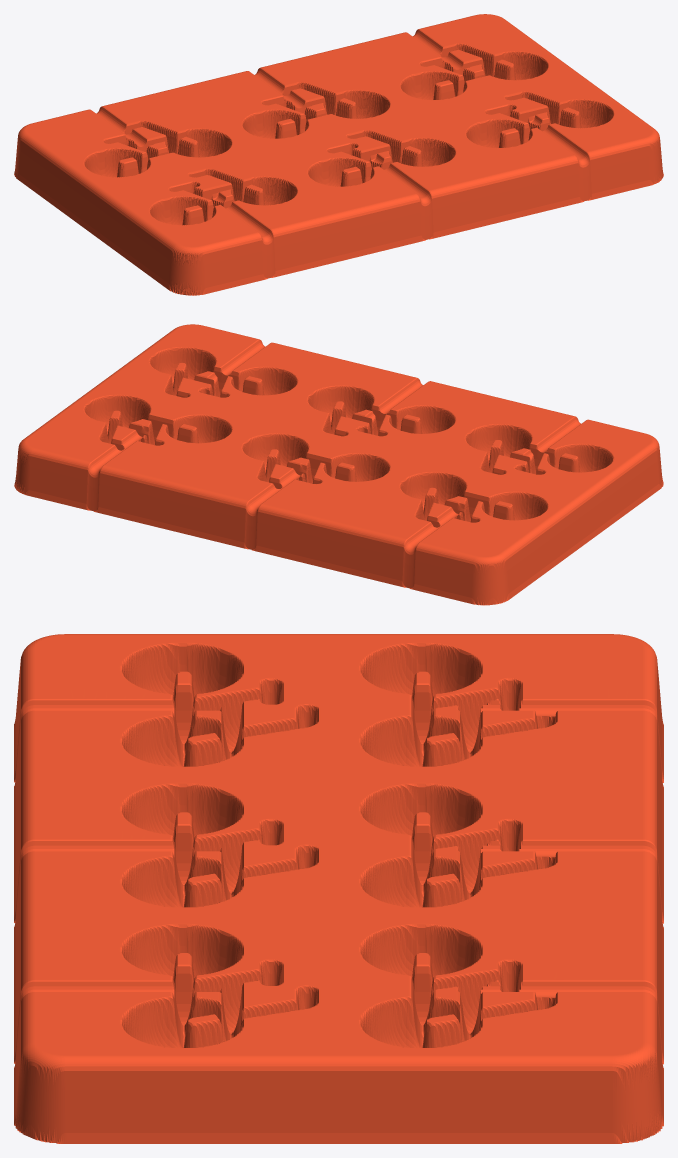
File: mold.glb
3 renders of one model, top to bottom at view 1: azimuth 30°, elevation 25°; view 2: azimuth 150°, elevation 25°; view 3: azimuth 270°, elevation 25°, orthographic. The views are drawn at different scales.
Parts seen in each view (by area): view 1: geometry_0; view 2: geometry_0; view 3: geometry_0.
Boxes of the visible parts, x1=… form: geometry_0: x1=14, y1=14, x2=663, y2=295; geometry_0: x1=14, y1=324, x2=663, y2=605; geometry_0: x1=14, y1=634, x2=663, y2=1143.
Size of the model in its own units: 0.1824 by 0.0155 by 0.1145.
